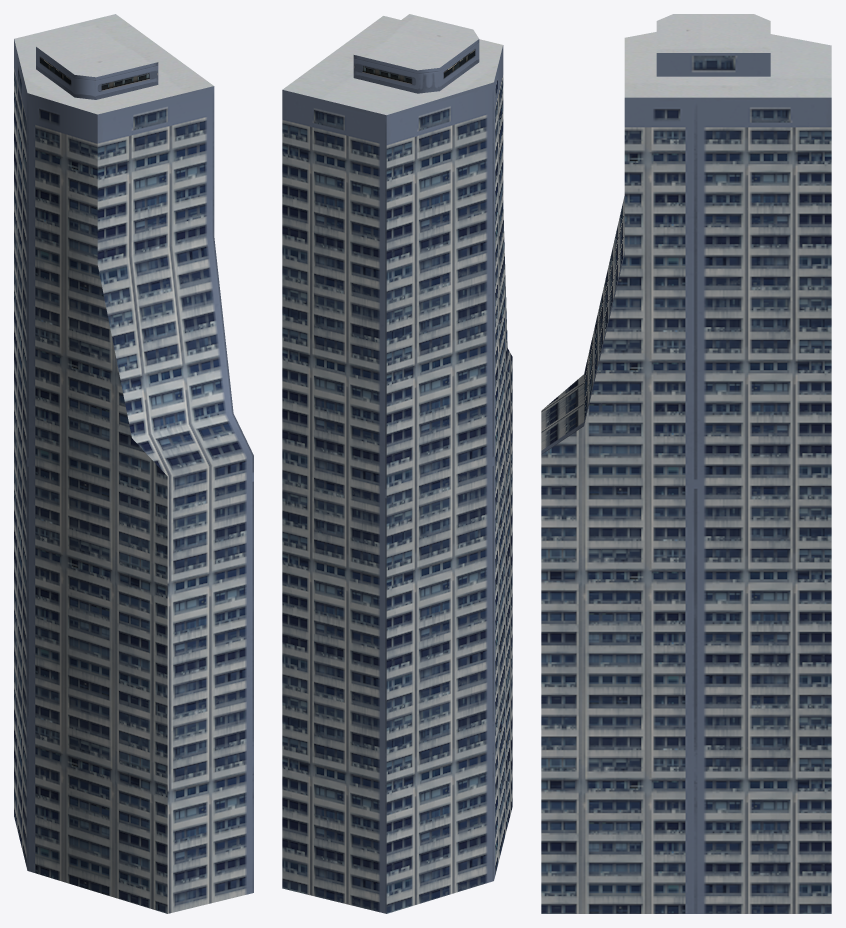
Rendered from MB_Skyscraper_01.fbx.
3 renders of one model, left to right at view 1: azimuth 30°, elevation 25°; view 2: azimuth 150°, elevation 25°; view 3: azimuth 270°, elevation 25°, orthographic. The views are drawn at different scales.
Parts seen in each view (by area): view 1: MB_Skyscraper_01; view 2: MB_Skyscraper_01; view 3: MB_Skyscraper_01.
Boxes of the visible parts, x1,y1,x2,y2 form: MB_Skyscraper_01: (14, 14, 253, 913); MB_Skyscraper_01: (282, 14, 512, 913); MB_Skyscraper_01: (541, 14, 831, 913).
Bounding box in the file's own units: 781 × 4061 × 1270.
